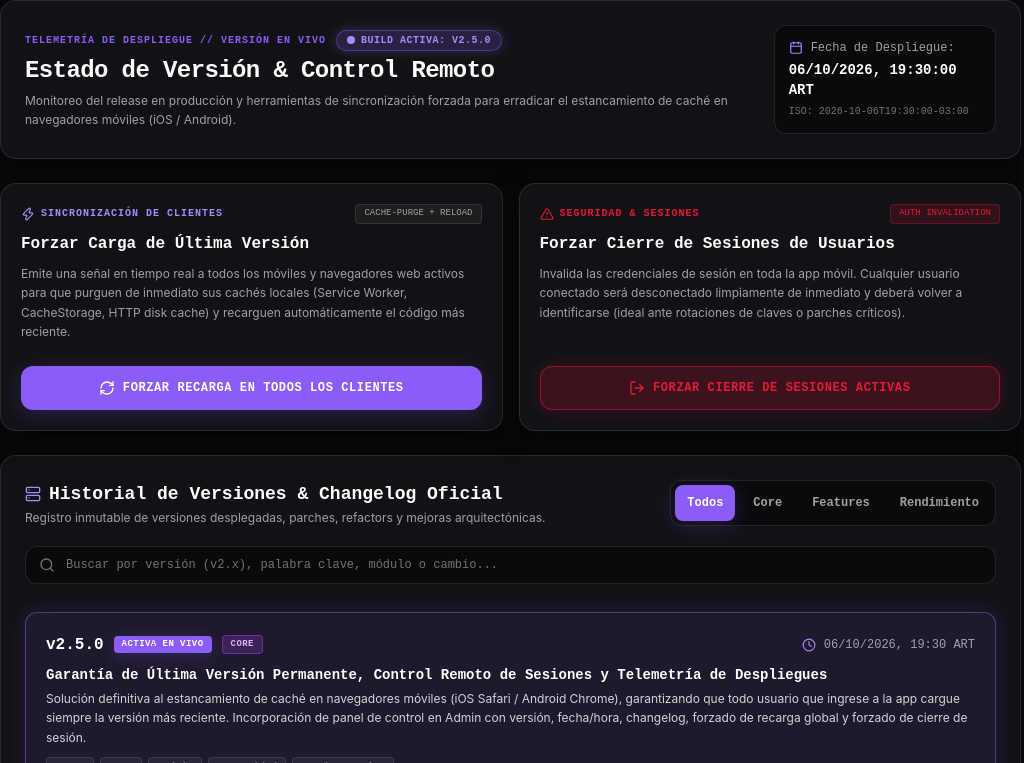
Test: VESSEL // UI SystemVersionTab › debe abrir modal de confirmación al presionar Forzar Recarga
This screenshot has width=1024, height=763.
Click the button "Forzar Recarga en Todos los Clientes". click: [251, 388]
box: [21, 366, 482, 410]
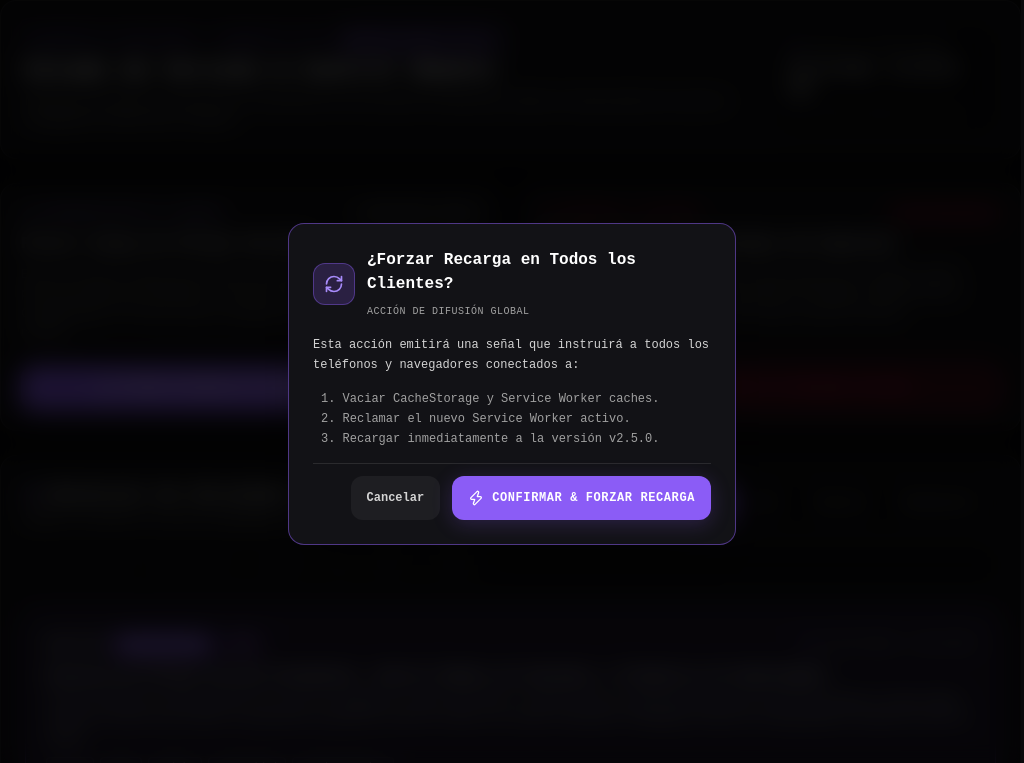
Check: the heading "¿Forzar Recarga en Todos los Clientes?" is shown, box [367, 251, 636, 293]
Check: the button "Confirmar & Forzar Recarga" is shown, box [452, 476, 711, 520]
